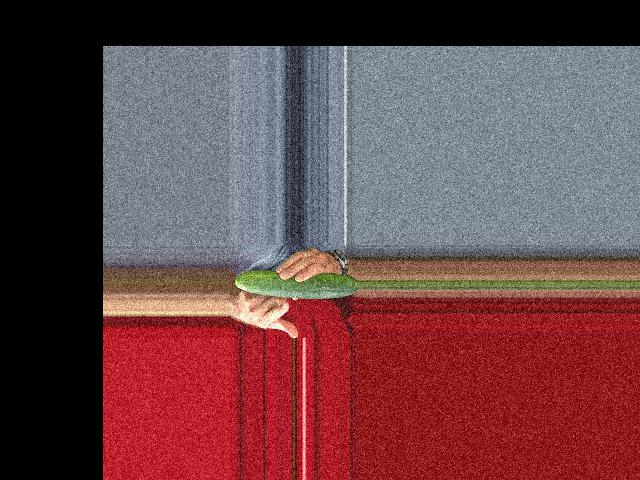cucumber: (235, 269, 357, 298)
